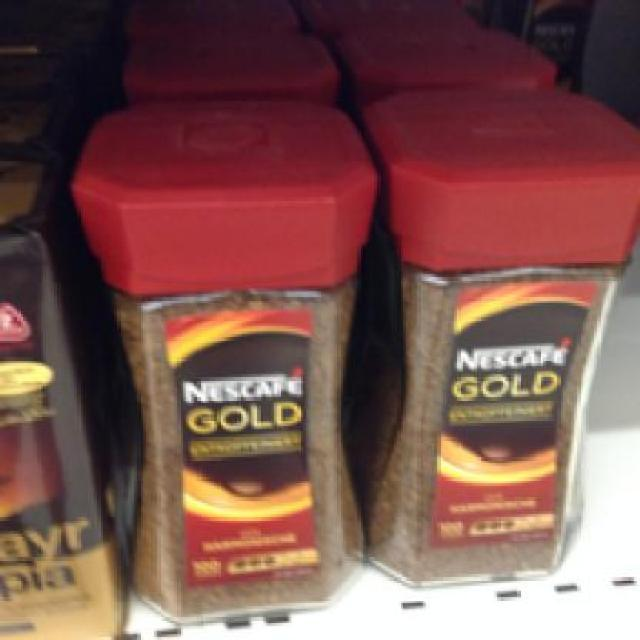Coffee: (69, 97, 374, 614), (363, 83, 637, 580)
